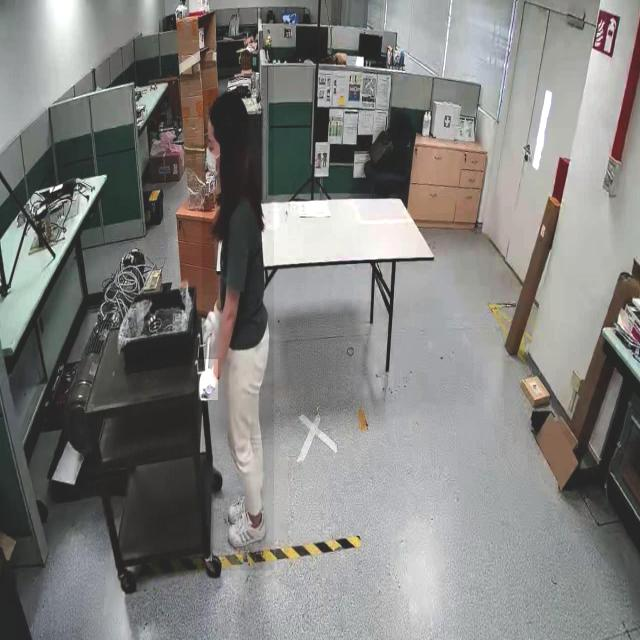face_mask: (204, 122, 223, 188)
hand_glove: (201, 295, 223, 358), (198, 359, 218, 401)
head_nohelmet: (208, 90, 248, 124)
person: (202, 59, 274, 572)
shoes: (226, 505, 267, 553)
